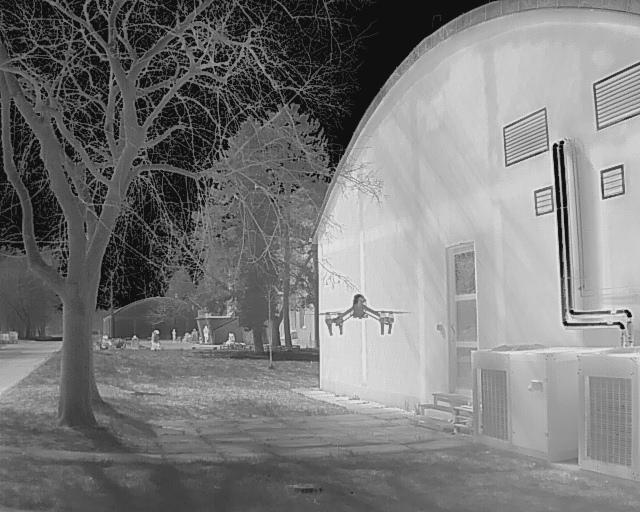drone: (306, 288, 411, 340)
